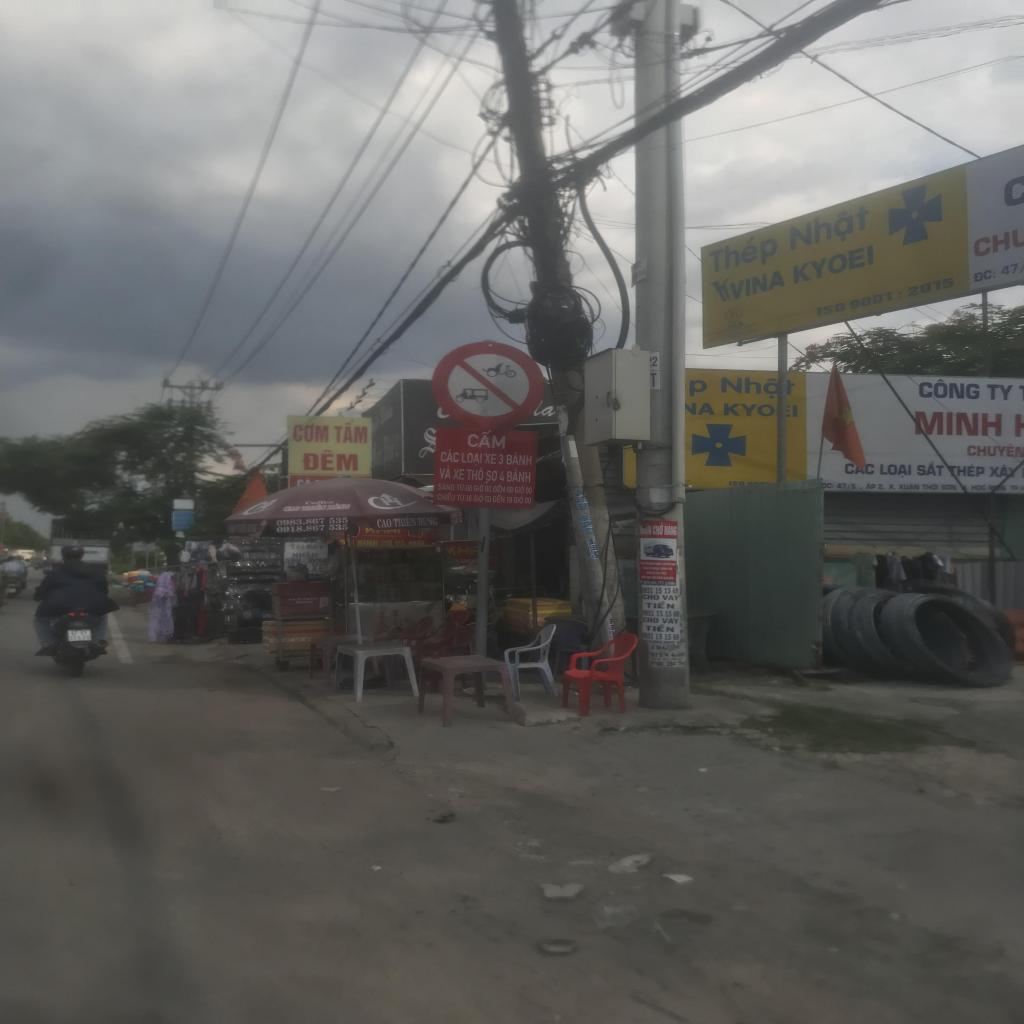cam_cac_loai_xe_3_banh: (431, 340, 545, 431)
